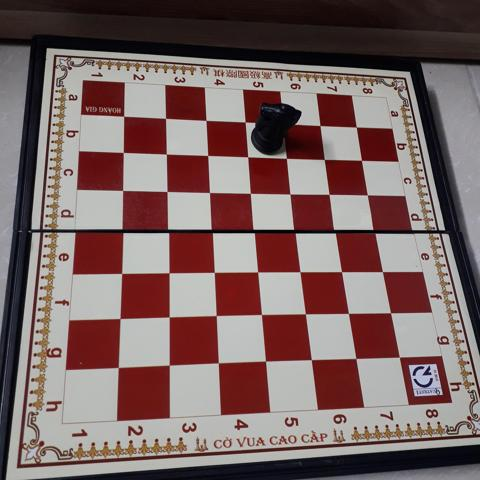xcorner: (156, 110, 173, 127), (348, 120, 364, 137), (312, 118, 328, 135), (197, 112, 213, 129), (354, 153, 371, 169), (283, 186, 300, 202), (201, 183, 217, 200), (158, 182, 174, 199), (113, 181, 130, 197), (328, 224, 345, 240), (288, 223, 304, 240), (203, 222, 219, 239), (113, 221, 129, 238), (335, 263, 351, 280), (341, 305, 357, 322), (348, 350, 364, 367), (162, 357, 178, 374), (111, 359, 127, 376), (275, 117, 291, 133), (237, 115, 253, 131), (115, 108, 131, 124), (317, 152, 333, 168), (279, 150, 295, 166), (240, 149, 256, 165), (199, 147, 215, 163), (157, 145, 173, 161), (114, 144, 130, 160), (361, 188, 377, 204), (323, 187, 339, 203), (243, 185, 259, 201), (368, 224, 384, 240), (246, 223, 262, 239), (159, 222, 175, 238), (375, 263, 391, 279), (293, 264, 309, 280), (250, 264, 266, 280), (206, 264, 222, 280), (160, 264, 176, 280), (112, 264, 128, 280), (383, 305, 399, 321), (298, 306, 314, 322), (254, 307, 270, 323), (208, 308, 224, 324), (161, 309, 177, 325), (111, 310, 127, 326), (391, 349, 407, 365), (304, 352, 320, 368), (258, 354, 274, 370), (211, 356, 227, 372)
